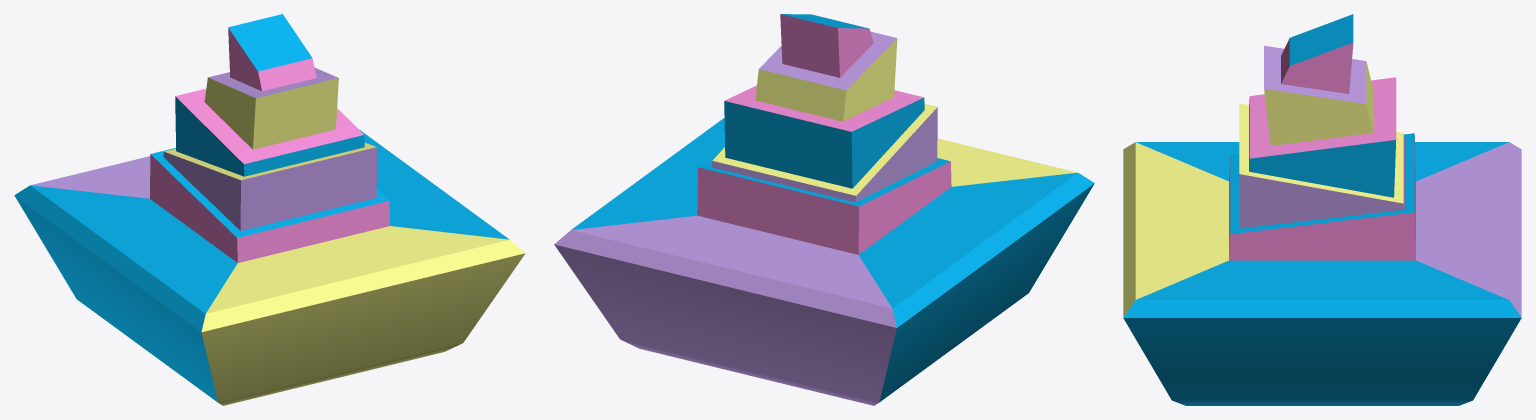
The model's file is banco.fbx.
3 views of the same model, side by side, from view 1: azimuth 30°, elevation 25°; view 2: azimuth 150°, elevation 25°; view 3: azimuth 270°, elevation 25° (orthographic). The views are drawn at different scales.
Visible parts, largest first — view 1: Cube; view 2: Cube; view 3: Cube.
Boxes of the visible parts, x1,y1,x2,y2 form: Cube: [14, 14, 525, 405]; Cube: [554, 14, 1094, 405]; Cube: [1123, 14, 1521, 405].
Bounding box in the file's own units: 393 × 348 × 393.
